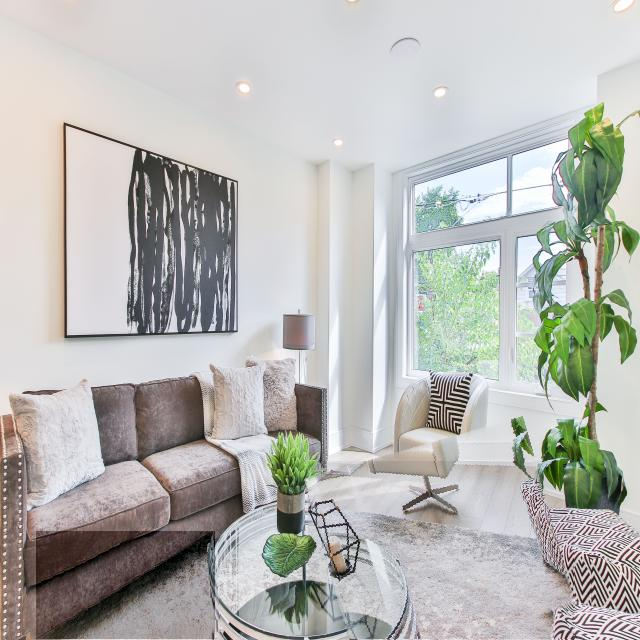floor: (308, 462, 574, 640), (36, 531, 215, 640), (377, 599, 396, 618), (383, 613, 395, 627), (389, 627, 394, 639)
